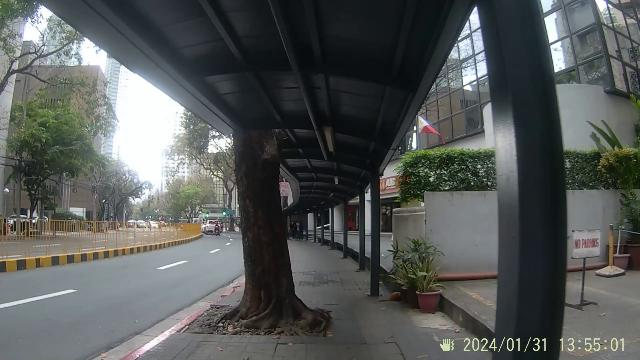potted_plant: (385, 239, 447, 314)
tree: (208, 124, 320, 342)
